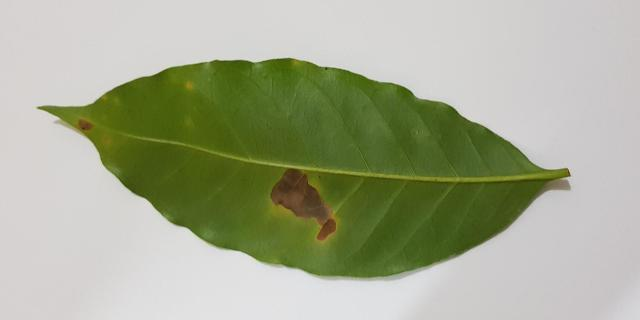cercospora: (270, 168, 339, 243), (74, 118, 93, 132), (187, 82, 192, 89)
